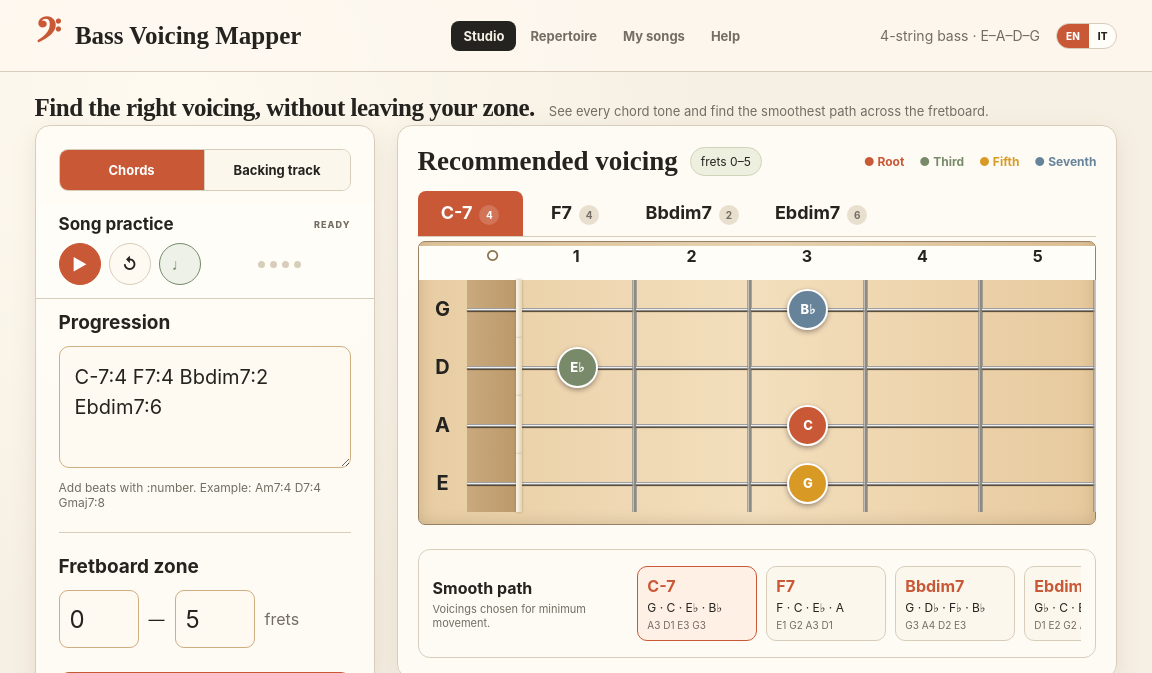
the fretboard › marks fret 0 as the nut, and only when the zone starts there
The image size is (1152, 673).
Expected: the element with class "has-open" is shown, [418,241,1096,525]
Replace the text in the number field named "First fret" with "3" at coordinates (98, 619), box [58,590,138,648]
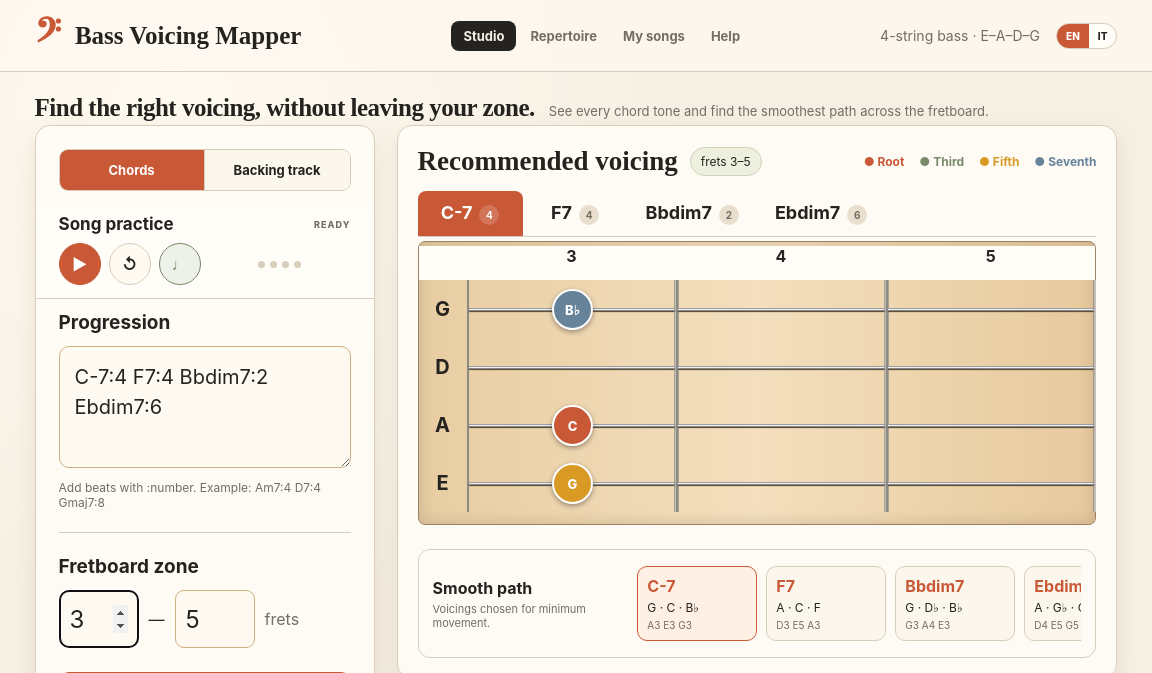
Expected: no elements with class "open" are shown
